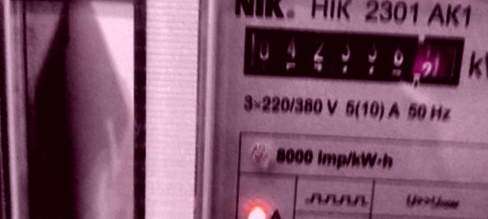0: (258, 33, 271, 62)
2: (310, 34, 328, 61)
3: (337, 34, 353, 63), (366, 34, 380, 63)
4: (284, 34, 300, 61)
6: (391, 40, 406, 67)
screen: (232, 13, 474, 98)
